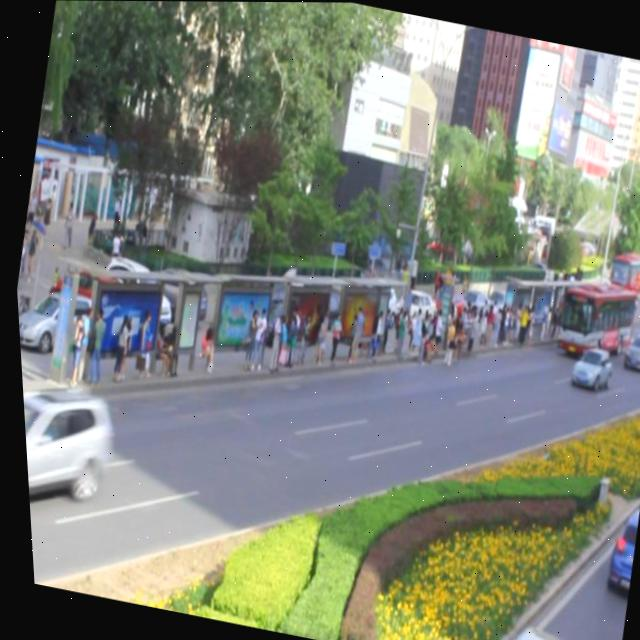car: (17, 371, 118, 529), (562, 340, 611, 391)
van: (550, 271, 636, 359)
